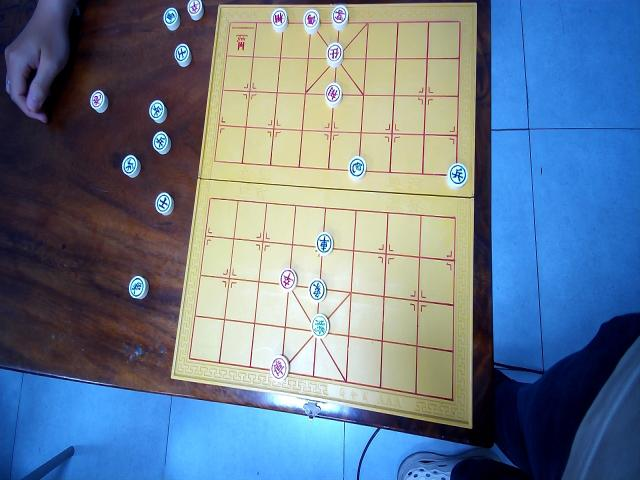piece: (446, 162, 467, 189), (269, 354, 289, 381), (128, 275, 148, 300), (121, 153, 141, 178), (310, 313, 329, 338), (325, 40, 343, 66), (324, 81, 342, 107), (348, 154, 366, 180), (303, 7, 320, 34), (154, 192, 173, 216), (315, 231, 333, 256), (331, 4, 348, 30), (271, 7, 288, 33), (90, 88, 108, 112), (173, 42, 191, 66), (148, 98, 166, 122), (163, 5, 180, 30), (308, 278, 326, 301), (152, 131, 170, 154), (186, 0, 204, 21), (280, 267, 296, 290)
